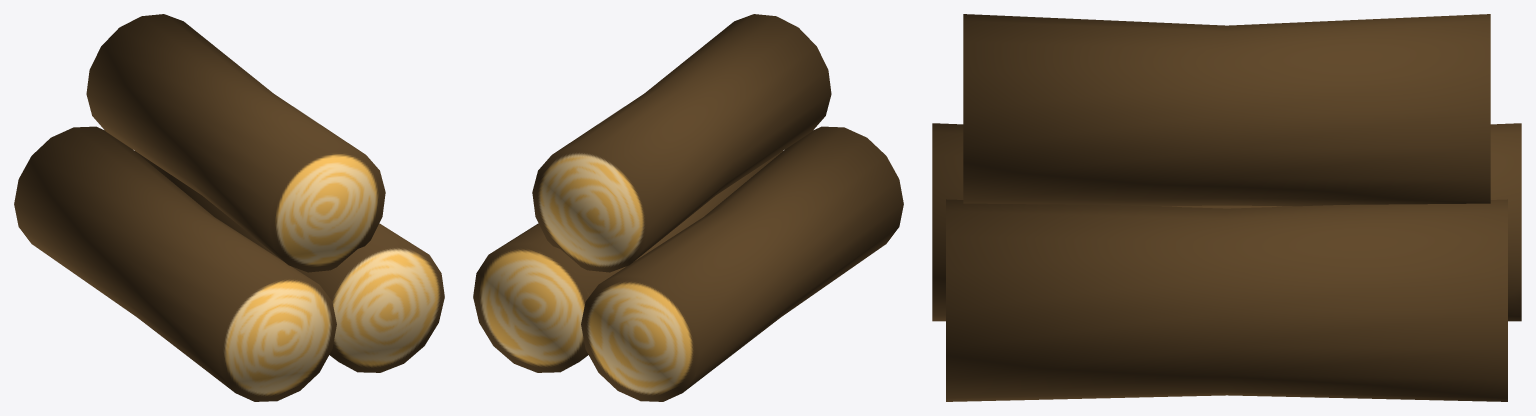
File: wood_oak_bundle.glb
3 renders of one model, left to right at view 1: azimuth 30°, elevation 25°; view 2: azimuth 150°, elevation 25°; view 3: azimuth 270°, elevation 25°, orthographic. The views are drawn at different scales.
Parts seen in each view (by area): view 1: oaklog, oaklog.002, oaklog.001; view 2: oaklog, oaklog.002, oaklog.001; view 3: oaklog.001, oaklog.002, oaklog.
Boxes of the visible parts, x1=… form: oaklog: x1=14, y1=126, x2=336, y2=401; oaklog.002: x1=86, y1=14, x2=385, y2=272; oaklog.001: x1=135, y1=151, x2=444, y2=372; oaklog: x1=581, y1=126, x2=903, y2=401; oaklog.002: x1=532, y1=14, x2=831, y2=272; oaklog.001: x1=473, y1=151, x2=782, y2=372; oaklog.001: x1=946, y1=199, x2=1507, y2=401; oaklog.002: x1=963, y1=14, x2=1490, y2=206; oaklog: x1=932, y1=123, x2=1521, y2=321.
Size of the model in its own units: 2.82 by 2.69 by 4.31.
Materials: 1 (1 with a texture image).
